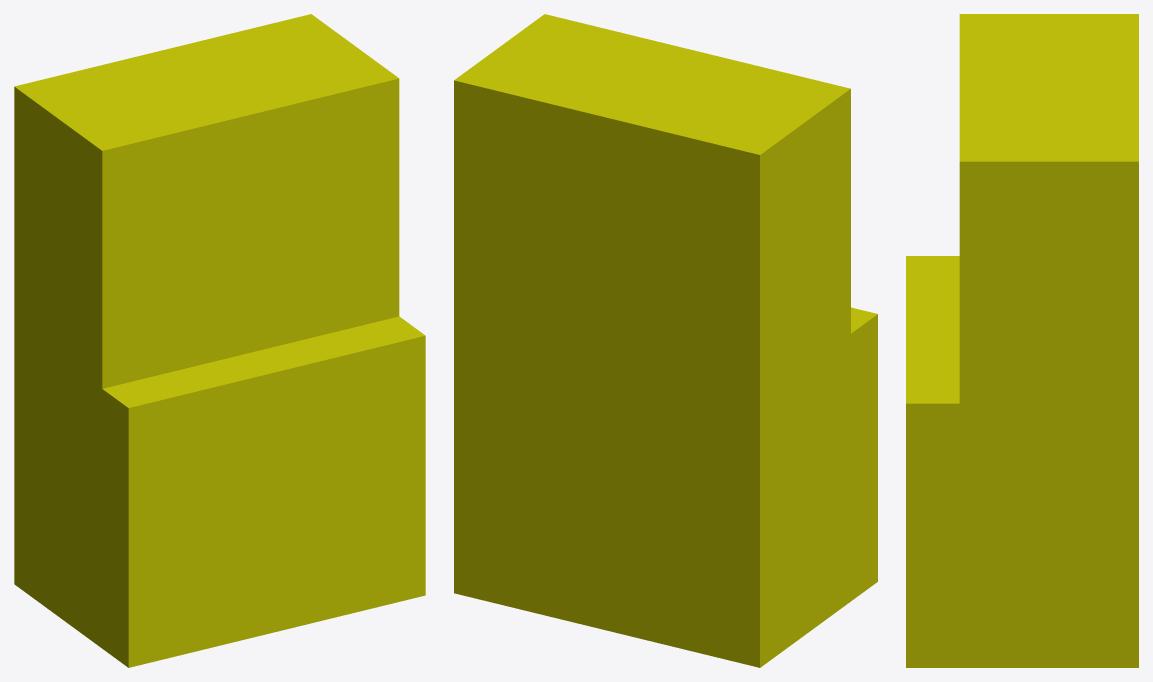
Rendered from change-machine-collider.dae.
3 views of the same model, side by side, from view 1: azimuth 30°, elevation 25°; view 2: azimuth 150°, elevation 25°; view 3: azimuth 270°, elevation 25° (orthographic). The views are drawn at different scales.
Parts seen in each view (by area): view 1: Cube_001, Cube; view 2: Cube_001, Cube; view 3: Cube_001, Cube.
Boxes of the visible parts, x1,y1,x2,y2 form: Cube_001: (14, 14, 399, 409); Cube: (14, 316, 425, 667); Cube_001: (454, 14, 850, 422); Cube: (454, 307, 877, 667); Cube_001: (959, 14, 1138, 425); Cube: (906, 256, 1138, 667).
Bounding box in the file's own units: 0.9075 × 0.605 × 1.45.
